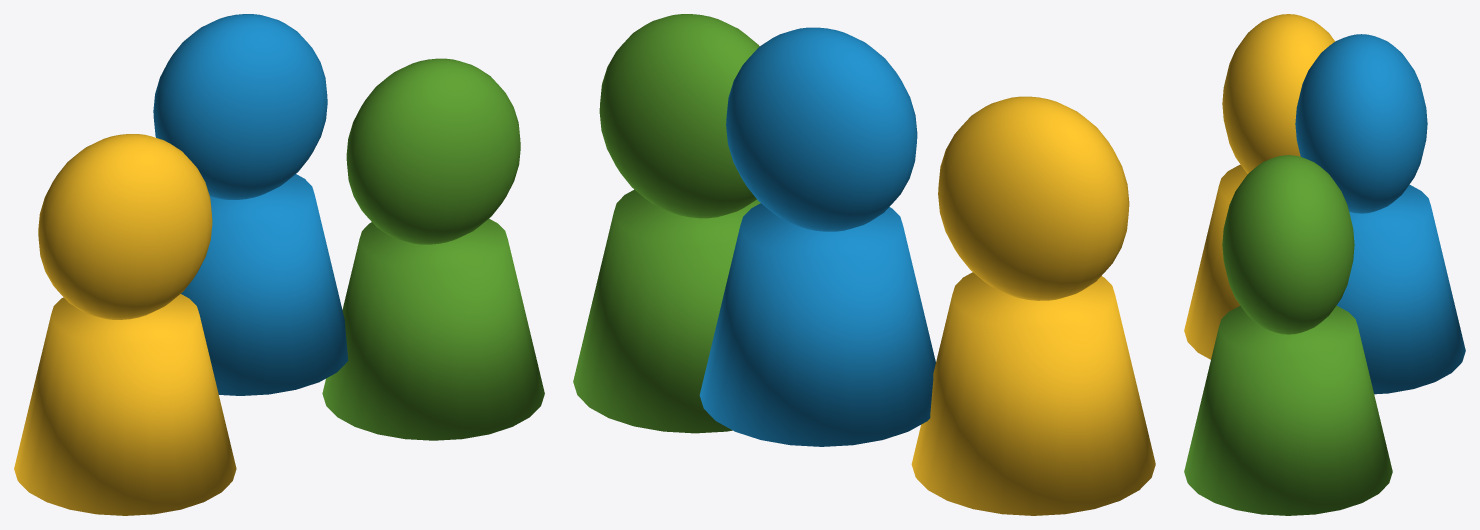
Rendered from circle_of_three.glb.
3 views of the same model, side by side, from view 1: azimuth 30°, elevation 25°; view 2: azimuth 150°, elevation 25°; view 3: azimuth 270°, elevation 25° (orthographic). The views are drawn at different scales.
Parts seen in each view (by area): view 1: circle_of_three; view 2: circle_of_three; view 3: circle_of_three.
Part boxes in pixels (<box>): circle_of_three: <box>14,14,544,515</box>; circle_of_three: <box>573,14,1155,515</box>; circle_of_three: <box>1184,14,1465,515</box>.
Bounding box in the file's own units: 0.78 × 0.57 × 0.405.
